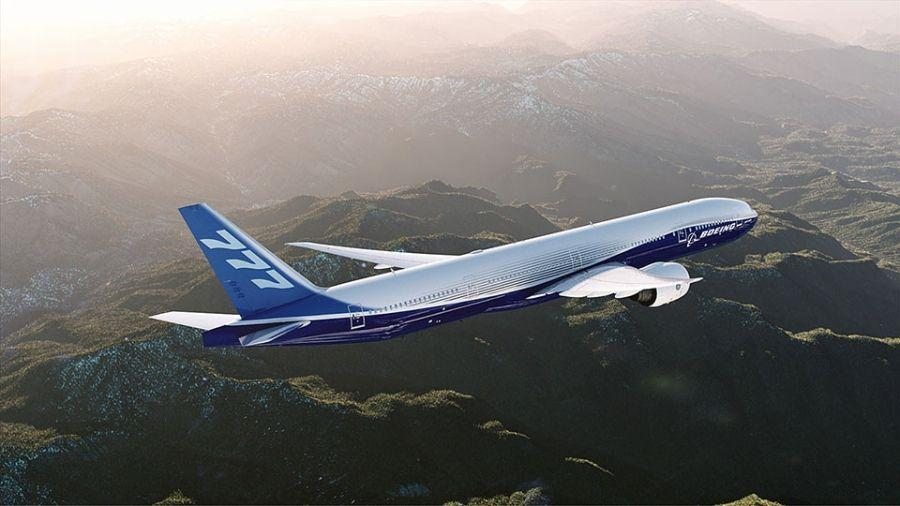airplane: (135, 195, 763, 344)
